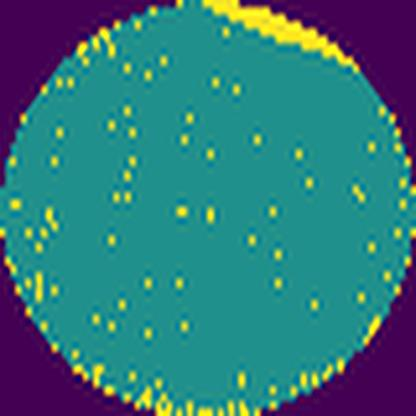Edge-Loc: (200, 0, 366, 81)
